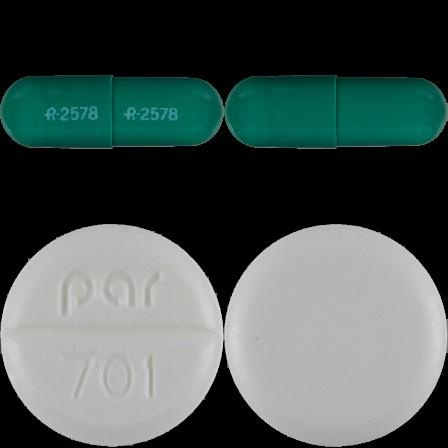50090-0674: (0, 0, 224, 224)
